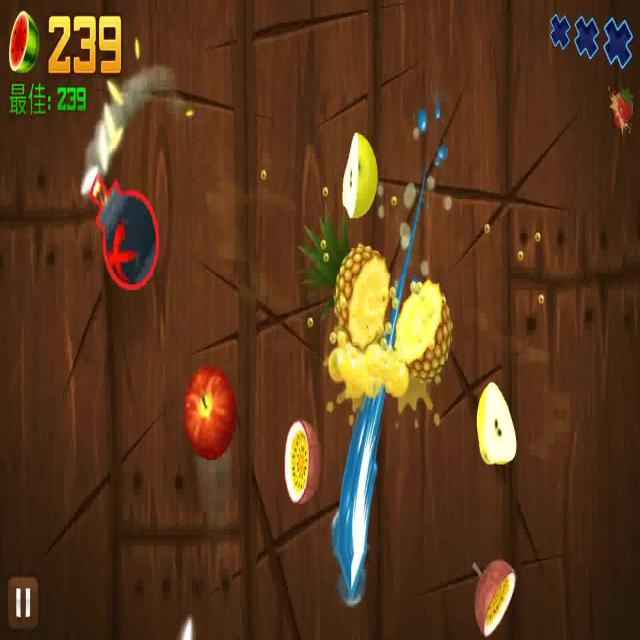bomb: (82, 152, 175, 294)
fruit: (300, 210, 388, 353), (395, 261, 453, 390), (182, 363, 240, 459), (464, 554, 513, 634), (477, 379, 519, 470), (342, 122, 378, 220), (282, 417, 320, 507)
